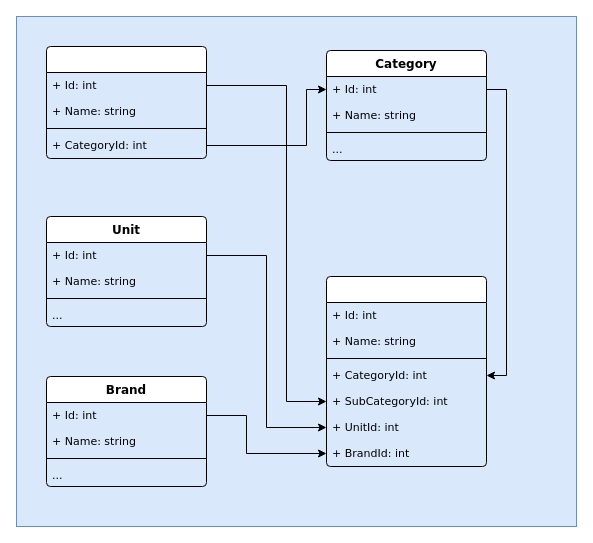
This 593x543 diagram has some shape labels left out. Each missing label, with the box of its shape:
Item: (326, 276, 486, 466)
SubCategory: (46, 46, 206, 158)
